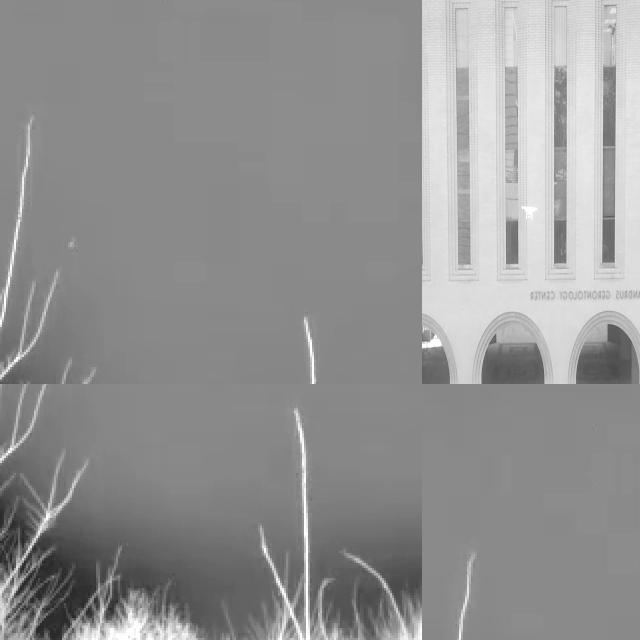0: (61, 232, 83, 257)
drone: (518, 202, 539, 224)
